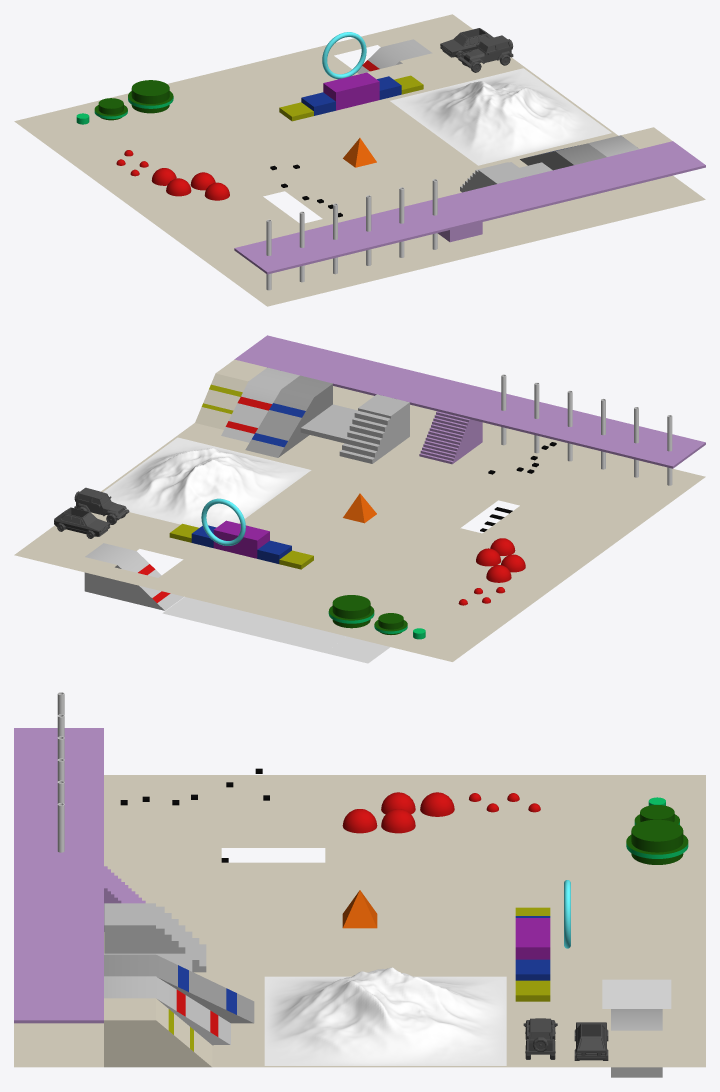
Rendered from Map test pour depla FALLLENONE.fbx.
3 renders of one model, top to bottom at view 1: azimuth 30°, elevation 25°; view 2: azimuth 150°, elevation 25°; view 3: azimuth 270°, elevation 25°, orthographic. The views are drawn at different scales.
Visible parts, largest first — view 1: sol, escalier___niveau, Terrain, escalier_large, Cylindre_2, pente_2, pente_1, Jeep_mesh, GTI_POT, cube_jump_3_2, anneau, cube_jump_3 (+5 smaller); view 2: sol, escalier___niveau, Terrain, escalier_large, pente_2, Plan, pente_1, pente_1_2, pente, Cylindre_2, Jeep_mesh, GTI_POT (+7 smaller); view 3: sol, escalier___niveau, Terrain, pente, escalier_large, pente_2, pente_1_2, Cylindre_2, Plan, pente_1, GTI_POT, Jeep_mesh (+8 smaller).
Boxes of the visible parts, bbox=[...] form: sol: bbox=[14, 14, 705, 306]; escalier___niveau: bbox=[234, 141, 705, 274]; Terrain: bbox=[390, 68, 611, 165]; escalier_large: bbox=[460, 162, 552, 192]; Cylindre_2: bbox=[128, 80, 173, 113]; pente_2: bbox=[520, 143, 606, 170]; pente_1: bbox=[357, 39, 432, 73]; Jeep_mesh: bbox=[458, 35, 513, 72]; GTI_POT: bbox=[440, 28, 493, 58]; cube_jump_3_2: bbox=[323, 78, 357, 110]; anneau: bbox=[322, 32, 366, 79]; cube_jump_3: bbox=[345, 72, 379, 105]; sol: bbox=[14, 386, 705, 661]; escalier___niveau: bbox=[234, 335, 705, 468]; Terrain: bbox=[103, 437, 311, 527]; escalier_large: bbox=[300, 394, 409, 463]; pente_2: bbox=[245, 375, 332, 457]; Plan: bbox=[162, 597, 346, 652]; pente_1: bbox=[84, 543, 183, 610]; pente_1_2: bbox=[221, 367, 299, 442]; pente: bbox=[195, 359, 266, 429]; Cylindre_2: bbox=[328, 595, 374, 628]; Jeep_mesh: bbox=[74, 487, 129, 524]; GTI_POT: bbox=[54, 507, 110, 538]; sol: bbox=[14, 775, 705, 1067]; escalier___niveau: bbox=[14, 728, 145, 1023]; Terrain: bbox=[264, 967, 506, 1065]; pente: bbox=[104, 998, 212, 1067]; escalier_large: bbox=[104, 903, 206, 972]; pente_2: bbox=[104, 954, 254, 1023]; pente_1_2: bbox=[104, 976, 230, 1045]; Cylindre_2: bbox=[626, 819, 688, 864]; Plan: bbox=[602, 979, 671, 1008]; pente_1: bbox=[611, 1009, 662, 1077]; GTI_POT: bbox=[574, 1022, 608, 1060]; Jeep_mesh: bbox=[523, 1018, 557, 1059].
Bounding box in the file's own units: 4000 × 899 × 4000.
